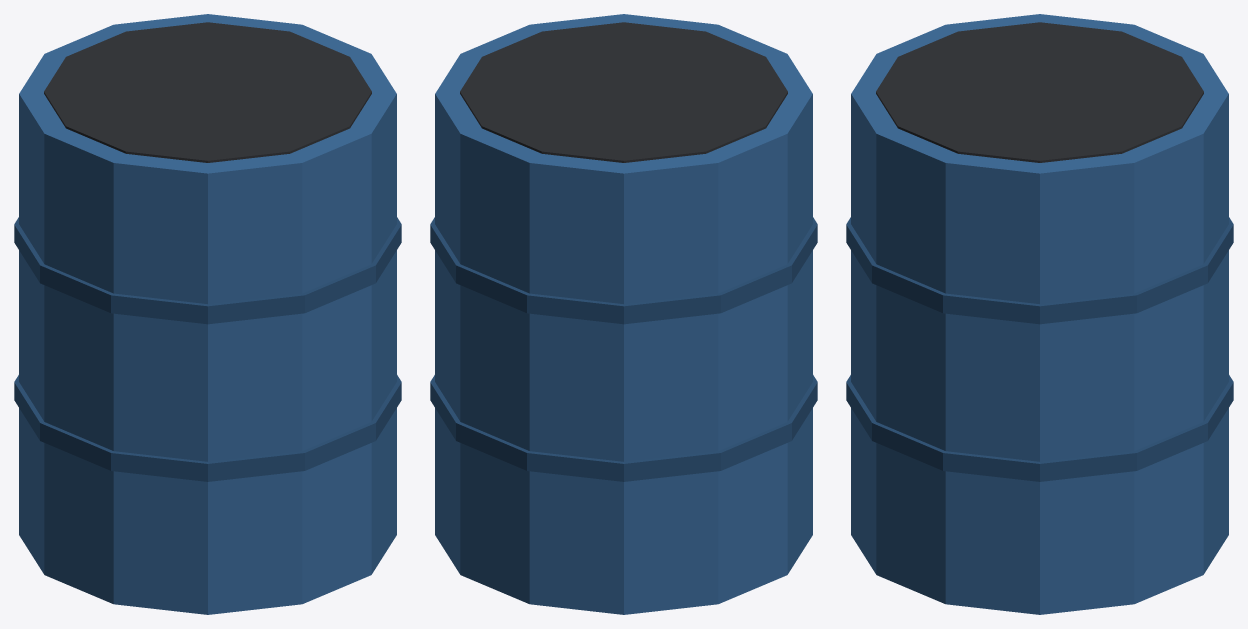
Rendered from SM_Borgo_Barrel_Water_Open.glb.
3 renders of one model, left to right at view 1: azimuth 30°, elevation 25°; view 2: azimuth 150°, elevation 25°; view 3: azimuth 270°, elevation 25°, orthographic.
Visible parts, largest first — view 1: SM_Borgo_Barrel_Water_Open; view 2: SM_Borgo_Barrel_Water_Open; view 3: SM_Borgo_Barrel_Water_Open.
Boxes of the visible parts, x1,y1,x2,y2 form: SM_Borgo_Barrel_Water_Open: [14, 14, 401, 614]; SM_Borgo_Barrel_Water_Open: [430, 14, 817, 614]; SM_Borgo_Barrel_Water_Open: [846, 14, 1233, 614].
Bounding box in the file's own units: 0.78 × 0.985 × 0.78.
Materials: 1 (1 with a texture image).
